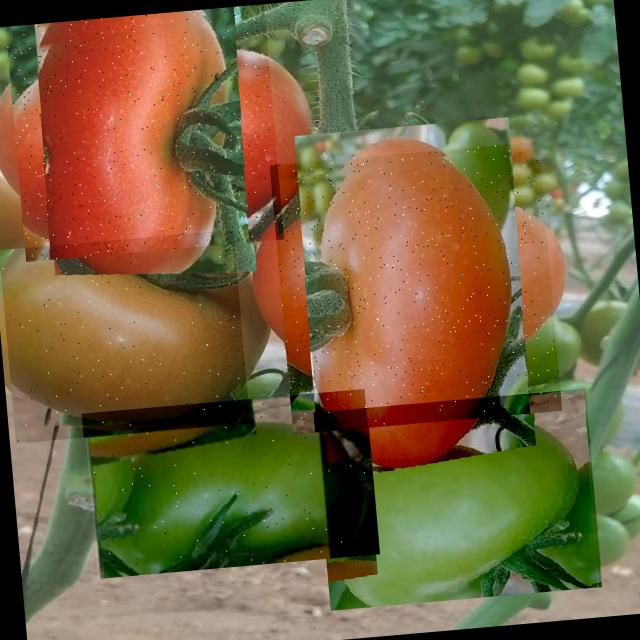Ripe Tomato: (269, 142, 562, 434), (5, 3, 284, 262)
Unripe Tomato: (313, 388, 602, 610), (82, 388, 379, 578), (0, 229, 249, 443)
